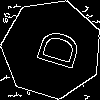D: (27, 24, 82, 72)
